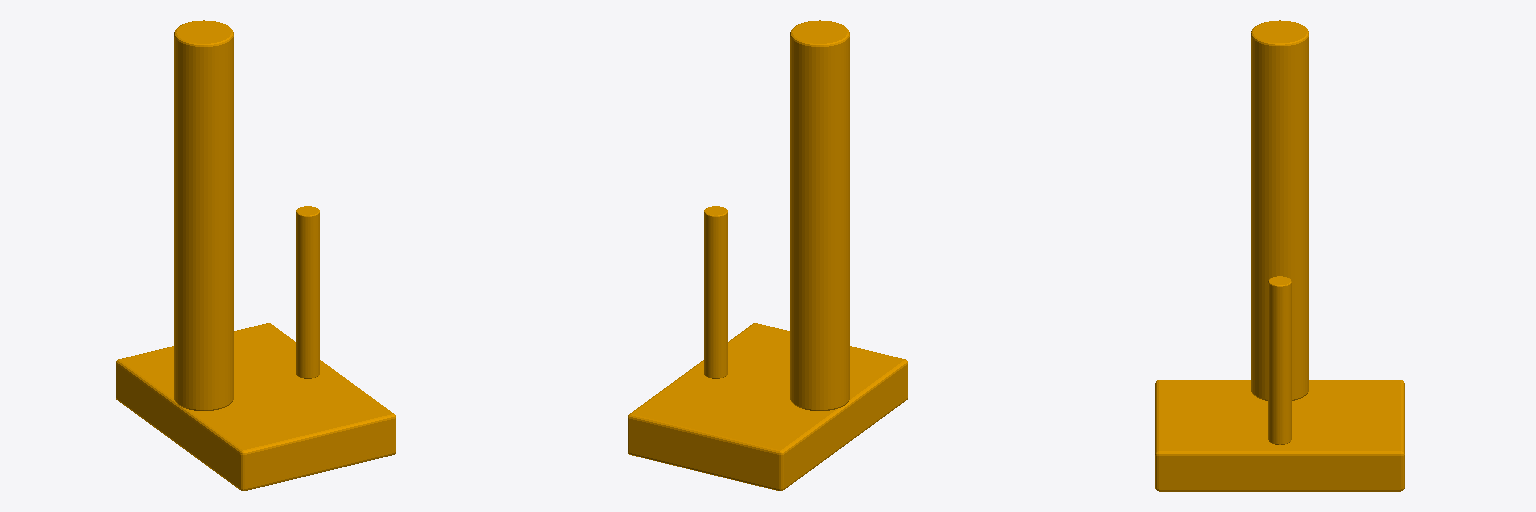
URDF robot description (tube_starting_fixture):
<?xml version="1.0" ?>
<robot name="tube_starting_fixture">
  <link name="base_link">
    <inertial>
      <origin xyz="0 0 0.075" rpy="0 0 0"/>
      <mass value="0.0609637149"/>
      <inertia ixx="0.000151012202" ixy="0" ixz="0" iyy="0.00013259608" iyz="0" izz="5.49943511e-05"/>
    </inertial>
    <visual name="visual">
      <origin xyz="0 0 0" rpy="0 0 0"/>
      <geometry>
        <mesh filename="meshes/visual.obj" scale="1 1 1"/>
      </geometry>
    </visual>
    <collision name="plank">
      <origin xyz="0 0 0" rpy="0 0 0"/>
      <geometry>
        <mesh filename="meshes/collision/plank.obj" scale="1 1 1"/>
      </geometry>
    </collision>
    <collision name="large_peg">
      <origin xyz="0 0 0" rpy="0 0 0"/>
      <geometry>
        <mesh filename="meshes/collision/large_peg.obj" scale="1 1 1"/>
      </geometry>
    </collision>
    <collision name="small_peg">
      <origin xyz="0 0 0" rpy="0 0 0"/>
      <geometry>
        <mesh filename="meshes/collision/small_peg.obj" scale="1 1 1"/>
      </geometry>
    </collision>
  </link>
</robot>

--- Facts derived from the render (not from the file) ---
Views: 3 orthographic renders of the robot side by side, from view 1: azimuth 30°, elevation 25°; view 2: azimuth 150°, elevation 25°; view 3: azimuth 270°, elevation 25°.
Model tube_starting_fixture with 1 links and 0 joints (none), rooted at base_link, posed all joints at 0.
Visible links, largest first — view 1: base_link; view 2: base_link; view 3: base_link.
Boxes of the visible links, left/top/right/bottom form: base_link: left=116, top=20, right=395, bottom=490; base_link: left=628, top=20, right=907, bottom=490; base_link: left=1155, top=20, right=1404, bottom=491.
Bounding box of the posed robot: 0.06 × 0.085 × 0.15 m (x, y, z).
1 mesh visuals loaded from 1 distinct referenced files (1 OBJ).
